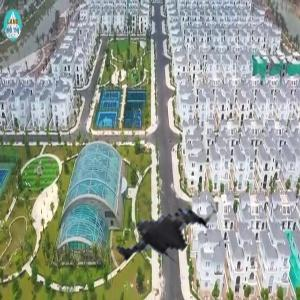drone: (78, 154, 220, 296)
